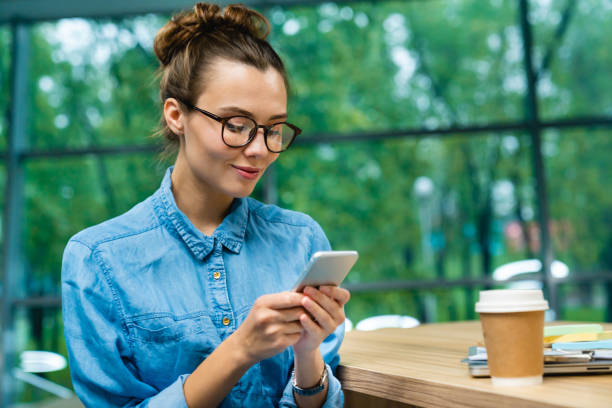without mask: (180, 40, 292, 205)
